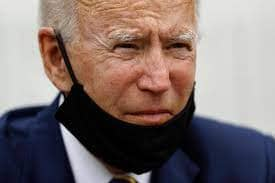with_incorrect_mask: (52, 1, 195, 162)
